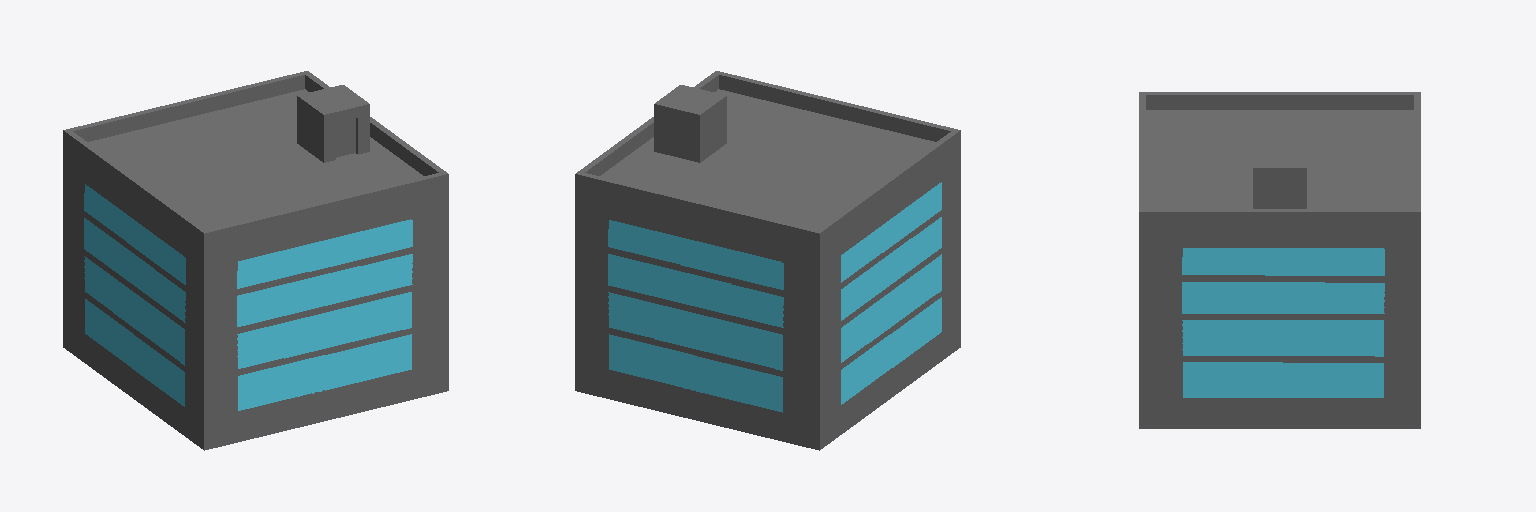
3 renders of one model, left to right at view 1: azimuth 30°, elevation 25°; view 2: azimuth 150°, elevation 25°; view 3: azimuth 270°, elevation 25°, orthographic.
Visible parts, largest first — view 1: Cube.001; view 2: Cube.001; view 3: Cube.001.
Part boxes in pixels (x1,y1,x2,y2): Cube.001: (63,71,448,450); Cube.001: (575,71,960,450); Cube.001: (1139,92,1420,428).
Bounding box in the file's own units: 10.61 × 11.39 × 10.61.
1 materials, 1 textured.